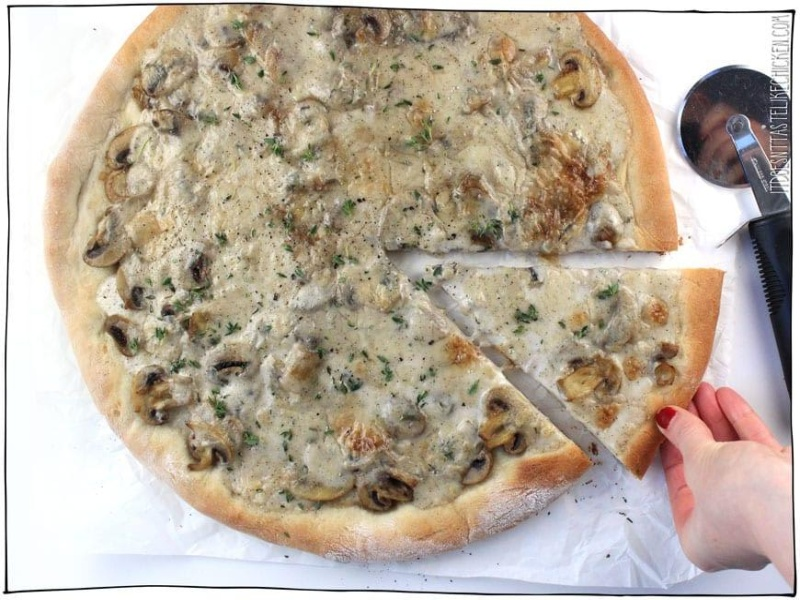champignon: (125, 365, 203, 430), (476, 385, 540, 462), (543, 47, 605, 111), (555, 354, 625, 406), (83, 218, 135, 272), (104, 122, 148, 173)
